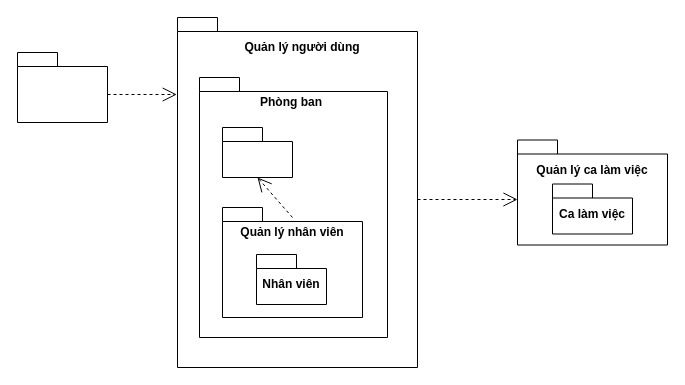
The diagram is 685 pixels wide and 385 high, and some of its shapes have lost their labels. The shapes that lost their labels are listed below. From the top down, each one's centre as x and y in pixels, then its label:
At (x=62, y=87): "User".
At (x=257, y=152): "Quản lý".
